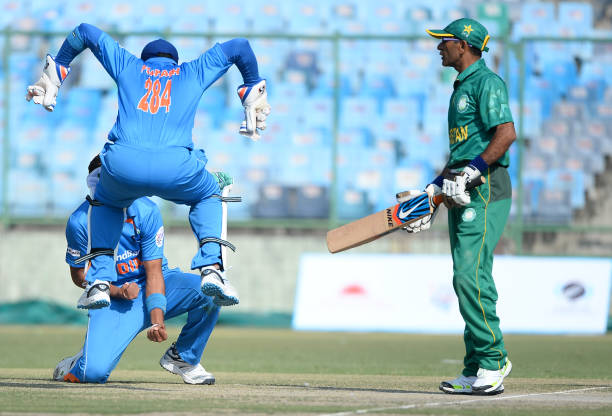bottom left: (318, 226, 334, 239)
bottom right: (322, 246, 340, 259)
top left: (424, 189, 433, 201)
top right: (423, 207, 439, 219)
